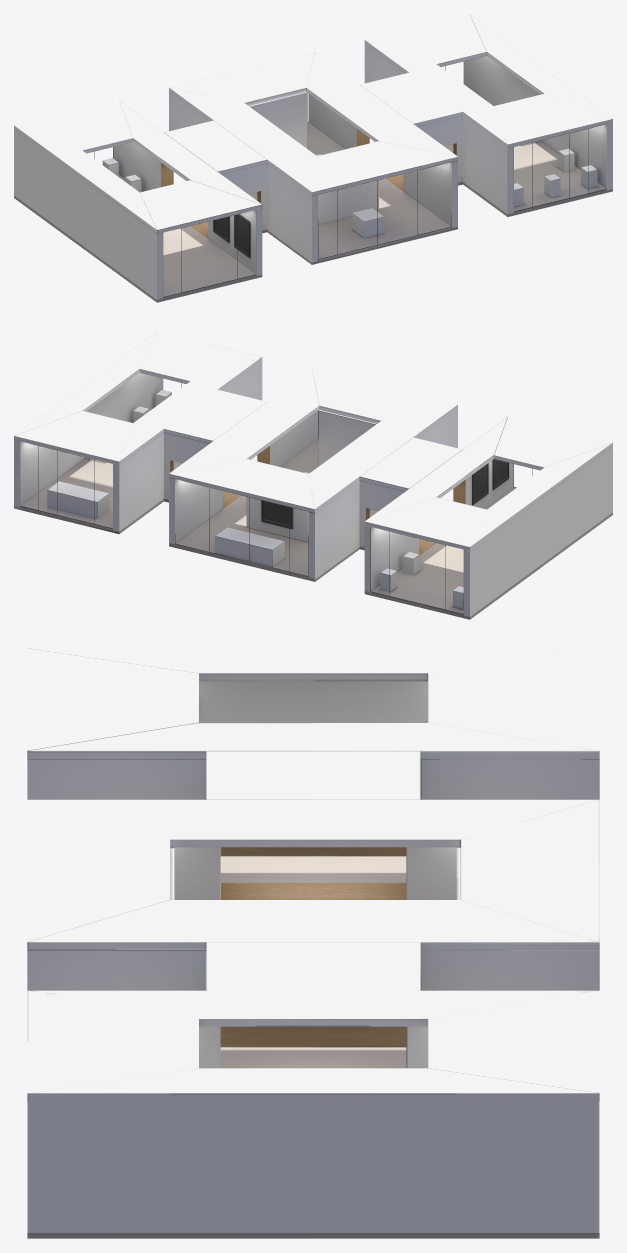
Rendered from museum_final.glb.
3 renders of one model, top to bottom at view 1: azimuth 30°, elevation 25°; view 2: azimuth 150°, elevation 25°; view 3: azimuth 270°, elevation 25°, orthographic. The views are drawn at different scales.
Visible parts, largest first — view 1: museum; view 2: museum; view 3: museum.
Boxes of the visible parts, x1=… form: museum: x1=14, y1=14, x2=612, y2=302; museum: x1=14, y1=331, x2=612, y2=619; museum: x1=27, y1=648, x2=599, y2=1238.
Bounding box in the file's own units: 36.8 × 5.6 × 20.
4 materials, 4 textured.
